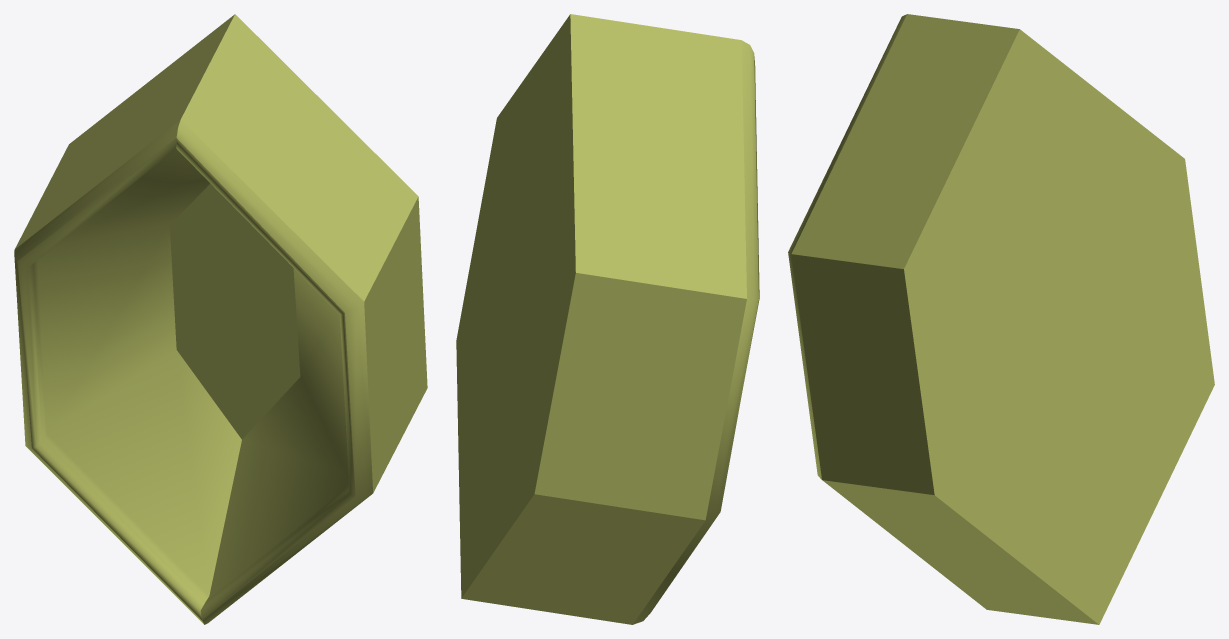
Rendered from TL3_8shapes_Hex_Classic_Metal.001 3.glb.
3 renders of one model, left to right at view 1: azimuth 30°, elevation 25°; view 2: azimuth 150°, elevation 25°; view 3: azimuth 270°, elevation 25°, orthographic. The views are drawn at different scales.
Visible parts, largest first — view 1: TL3_8shapes_Hex_Classic_Metal.001; view 2: TL3_8shapes_Hex_Classic_Metal.001; view 3: TL3_8shapes_Hex_Classic_Metal.001.
Part boxes in pixels (x1,y1,x2,y2): TL3_8shapes_Hex_Classic_Metal.001: [14, 14, 427, 624]; TL3_8shapes_Hex_Classic_Metal.001: [456, 14, 759, 624]; TL3_8shapes_Hex_Classic_Metal.001: [788, 14, 1214, 624].
Size of the model in its own units: 0.5425 by 0.8693 by 0.5582.
